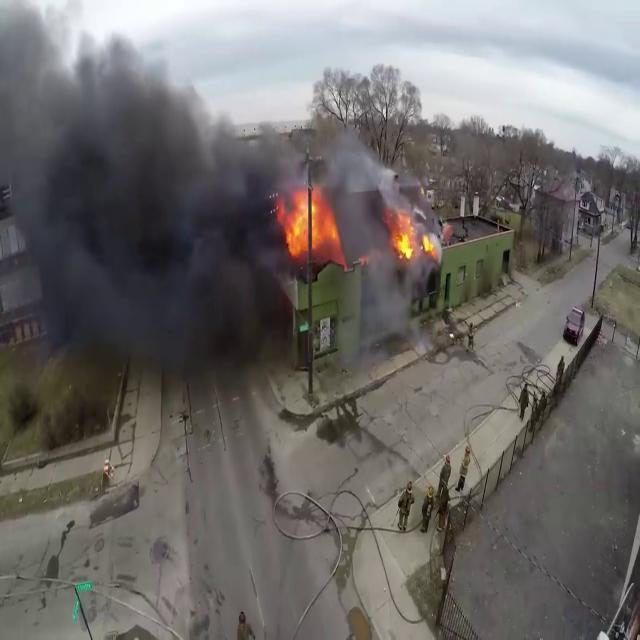Fire: (278, 176, 344, 266), (387, 207, 439, 264)
Smoke: (2, 11, 292, 407)
